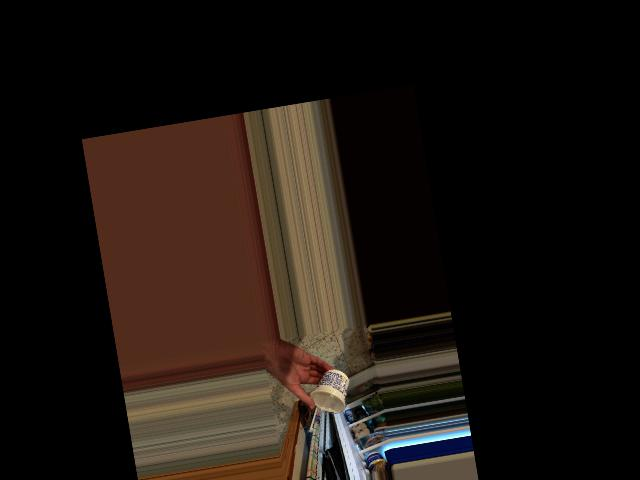cotage: (309, 370, 352, 418)
